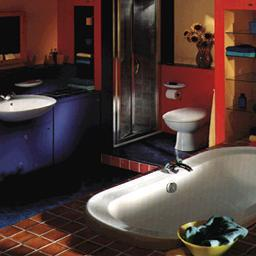Ducha: (113, 1, 161, 146)
Lavamanos: (3, 93, 57, 124)
Sanitario: (164, 103, 204, 153)
